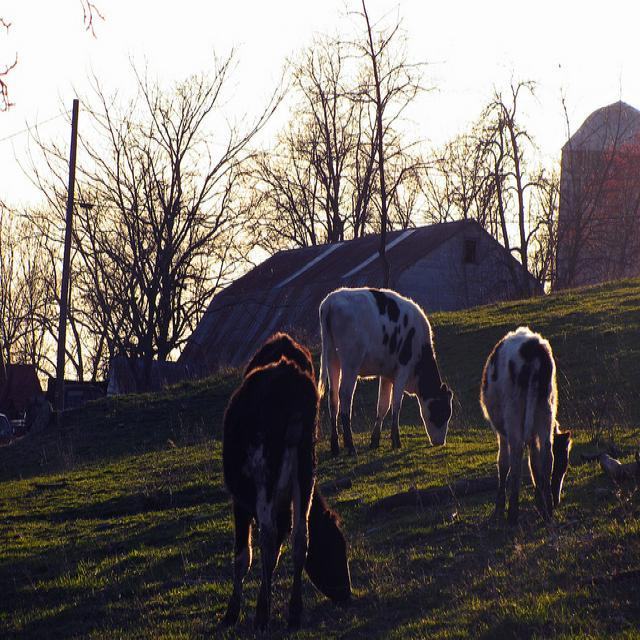cow: (210, 352, 358, 631), (317, 285, 451, 455), (481, 322, 572, 524), (238, 334, 317, 388)
